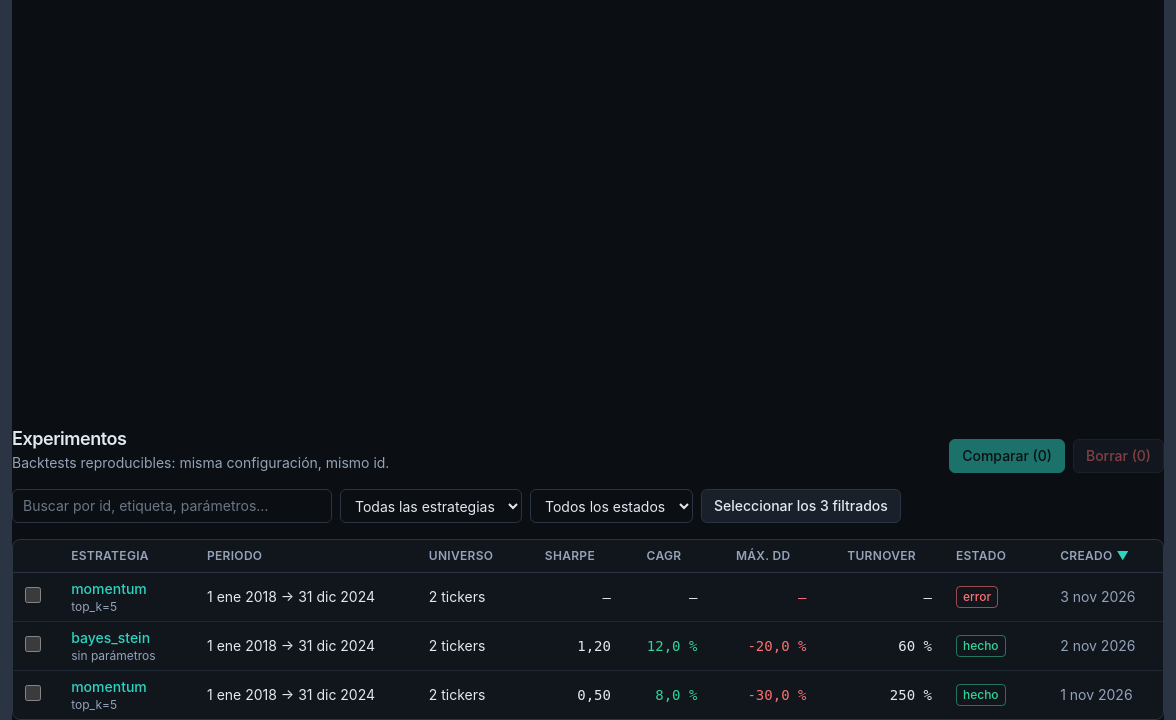
it: Experimentos › con Mayús marca el rango en el orden visible y «Seleccionar todos» marca los filtrados
The width and height of the screenshot is (1176, 720).
(page scrolled)
Expected: the table named "Experimentos" is shown, [13, 540, 1163, 719]
Click the checkbox named "Seleccionar momentum-3" at x=33, y=594, box [25, 586, 41, 602]
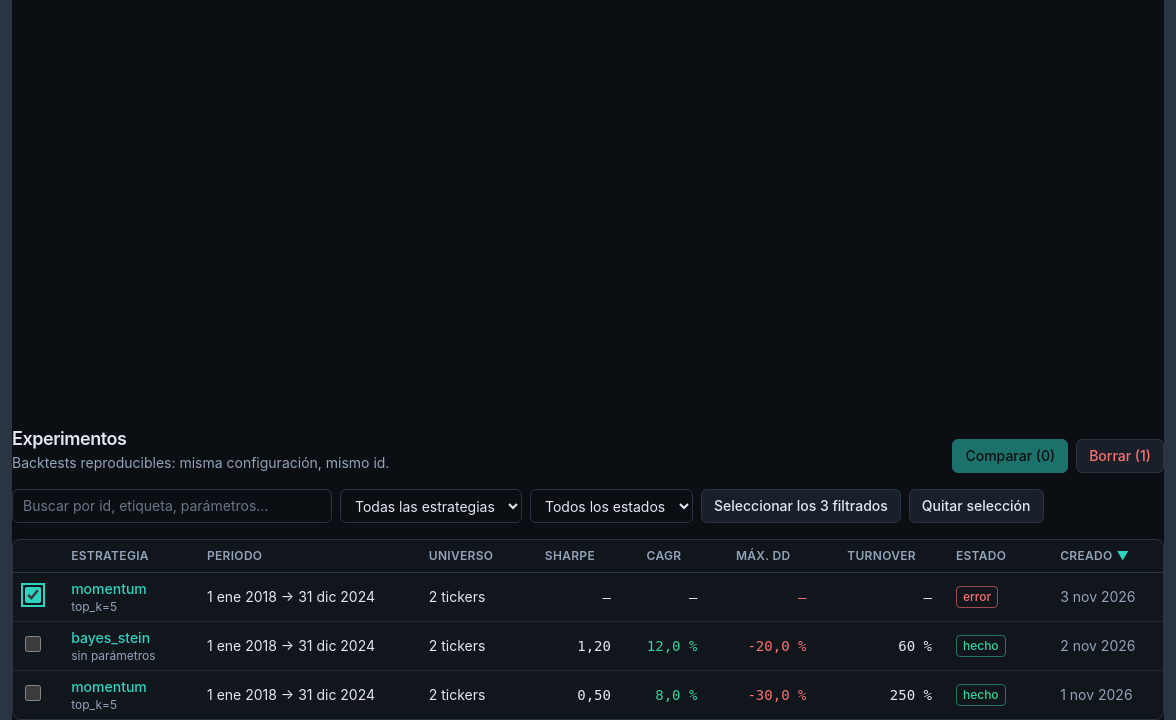
Type keys "{Shift>}"
Click the checkbox named "Seleccionar momentum-1" at x=33, y=692, box [25, 684, 41, 700]
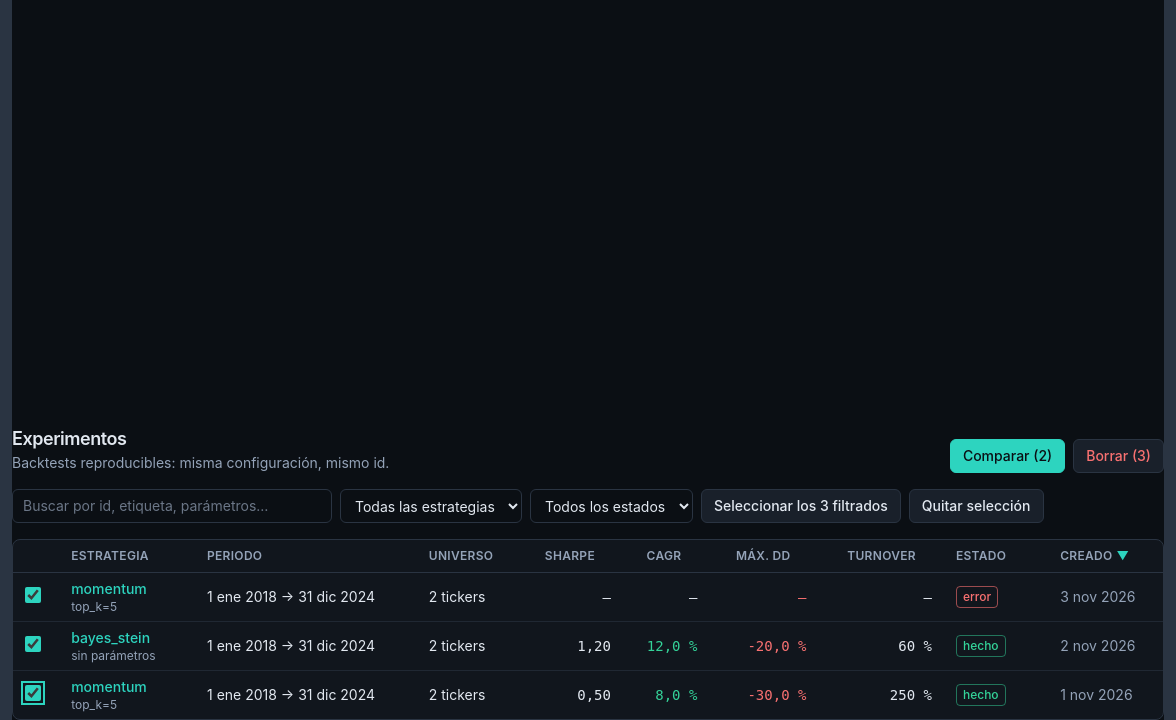
Type keys "{/Shift}"
Now the checkbox named "Seleccionar bayes_stein-2" is checked, box [25, 636, 41, 652]
Now the button "Borrar (3)" is shown, box [1073, 439, 1164, 473]
Click the button "Quitar selección" at x=976, y=506, box [909, 489, 1044, 523]
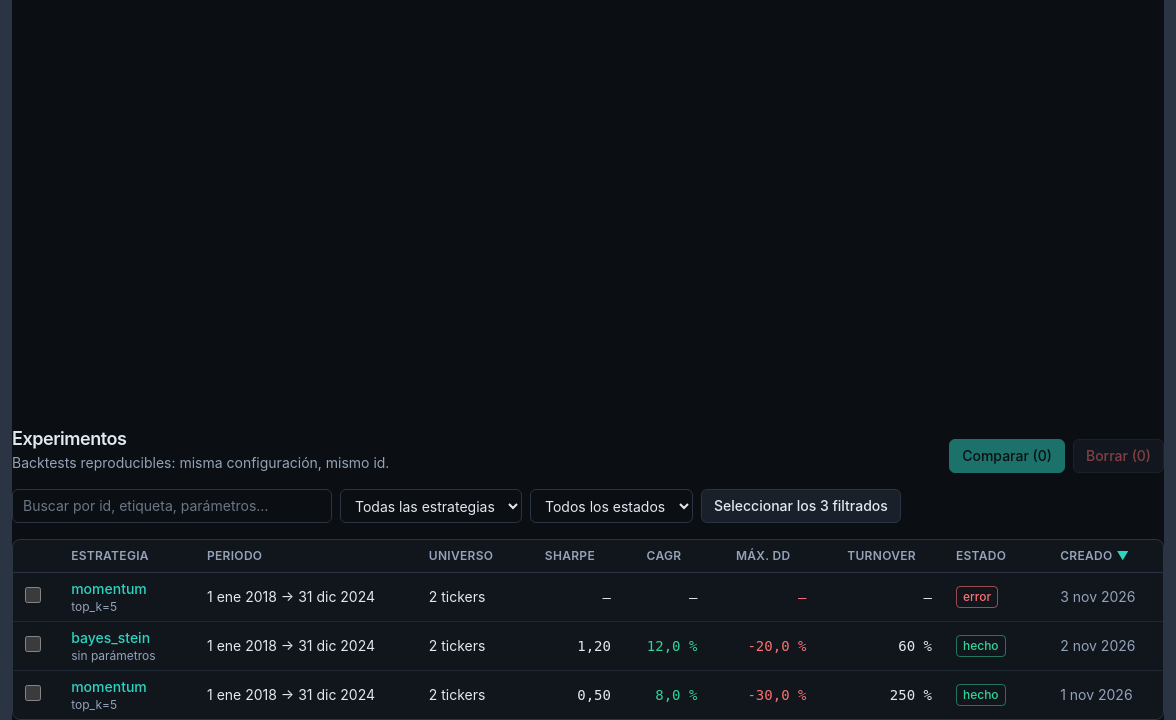
Now the checkbox named "Seleccionar momentum-1" is not checked, box [25, 684, 41, 700]
Select "momentum" in the 1st dropdown named "Estrategia" at x=431, y=506, box [340, 489, 522, 523]
(page scrolled)
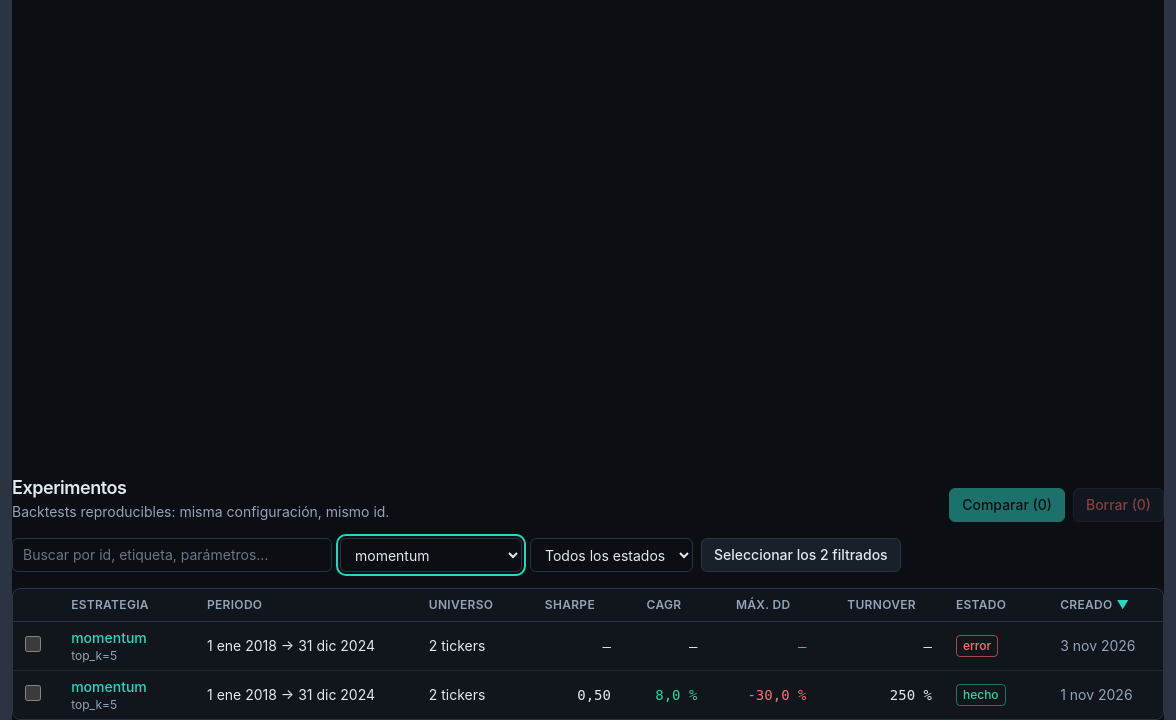
Click the button "Seleccionar los 2 filtrados" at x=801, y=555, box [701, 538, 901, 572]
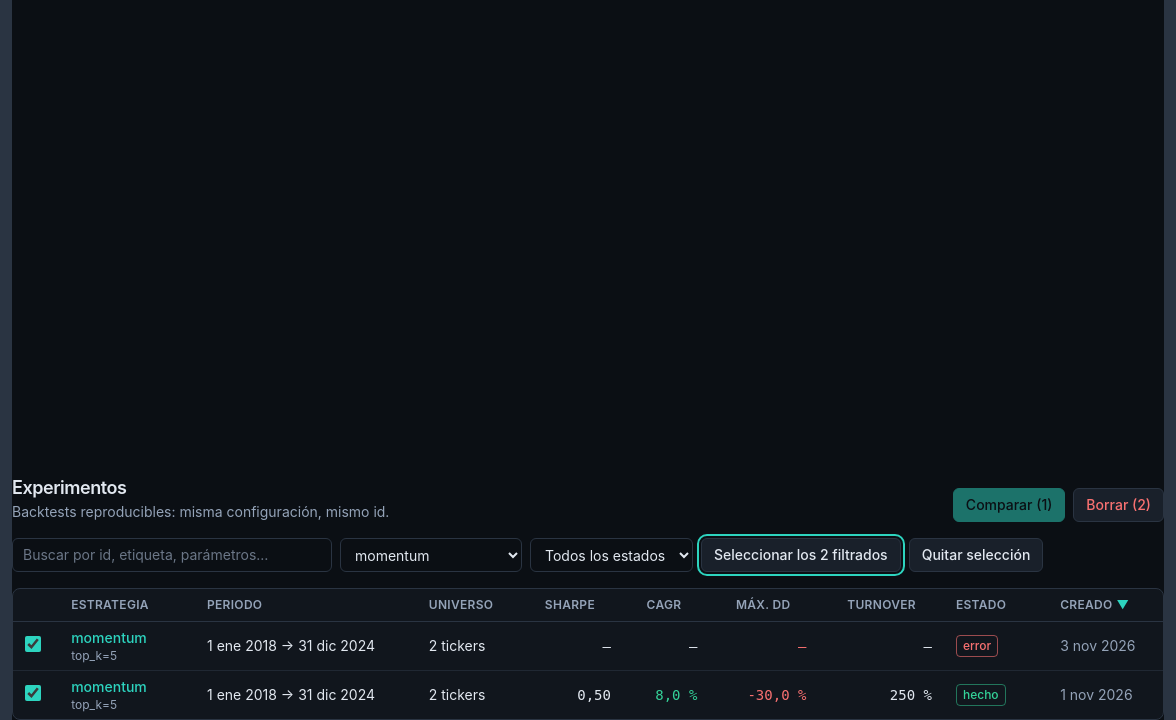
Now the button "Borrar (2)" is shown, box [1073, 488, 1164, 522]
